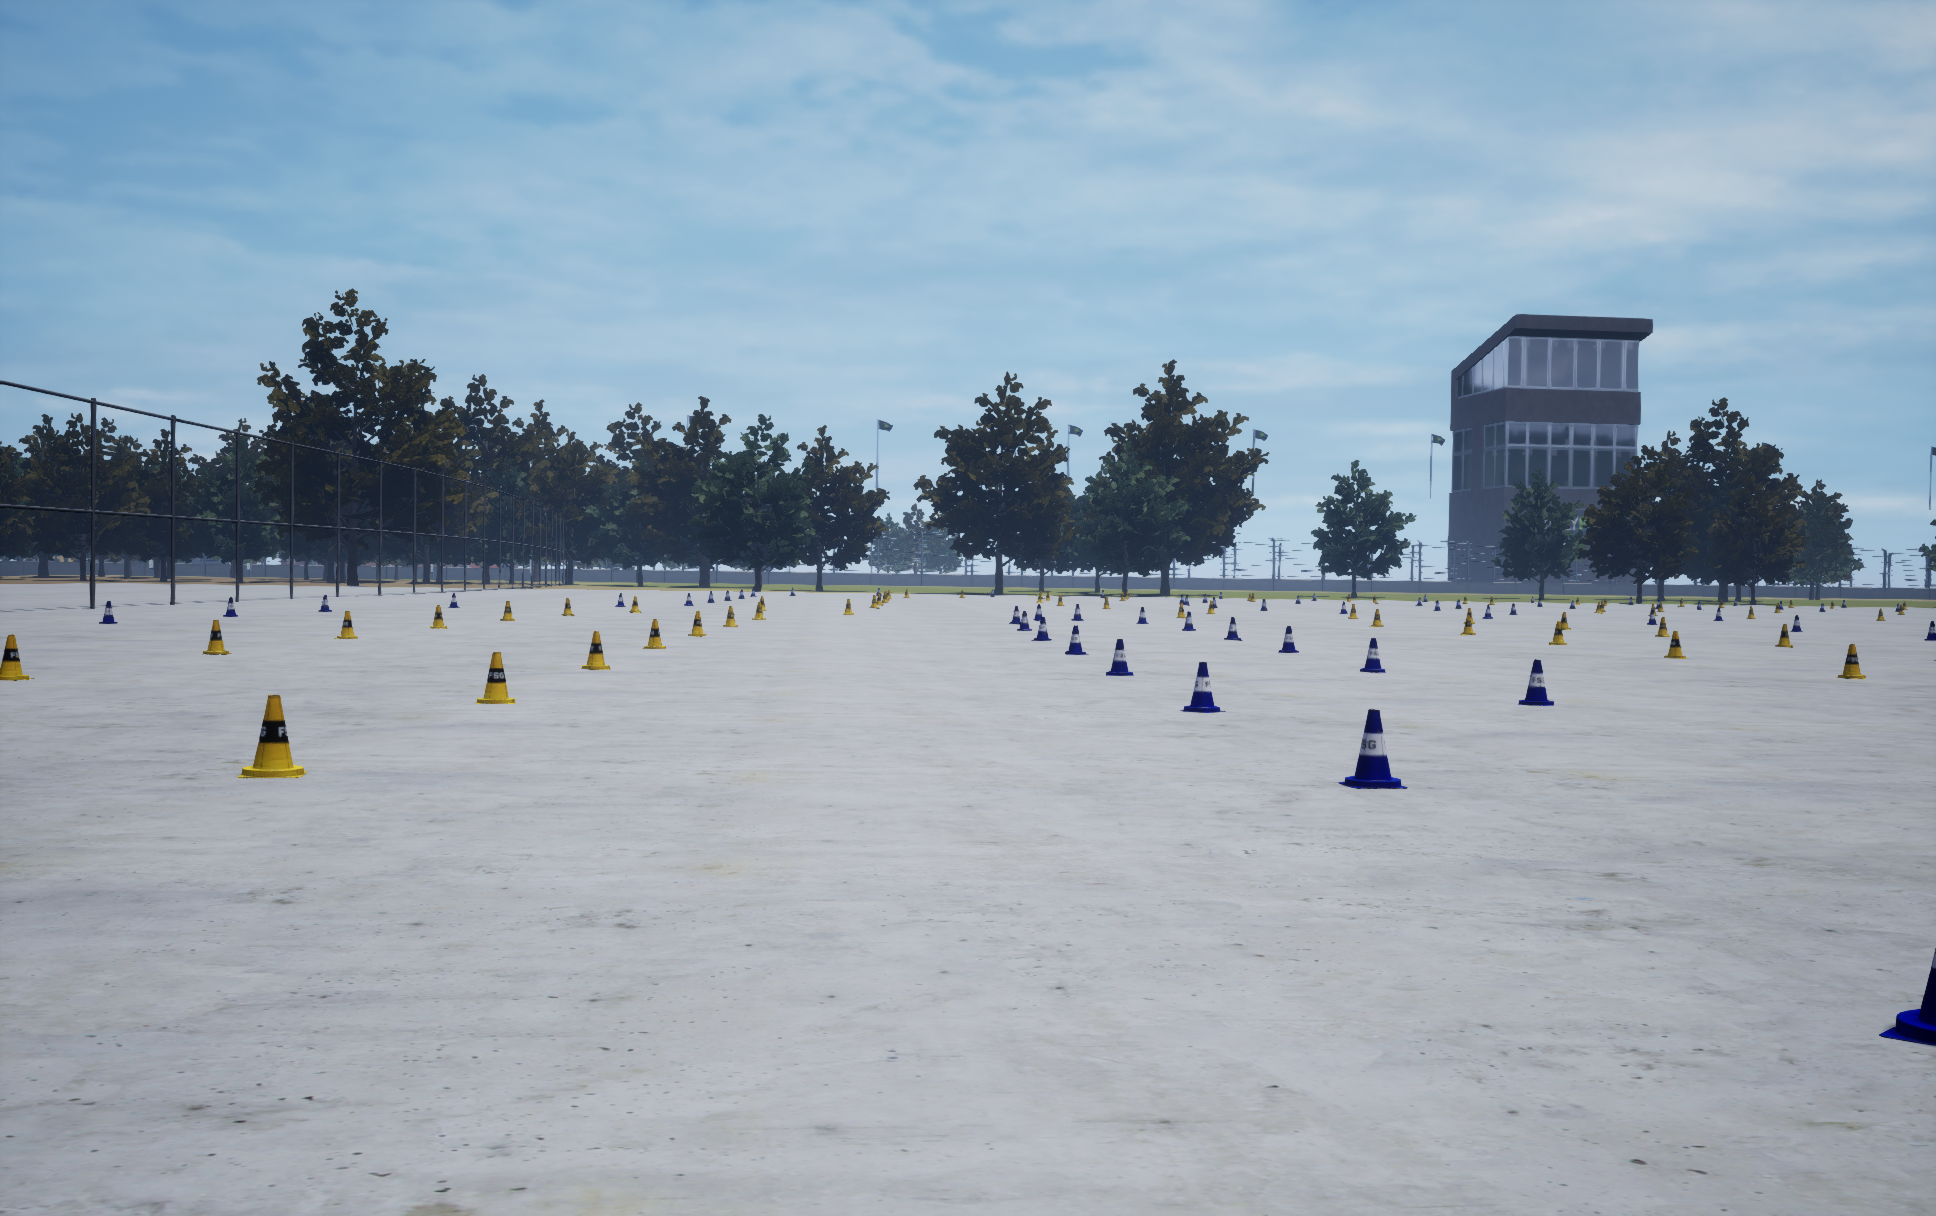blue: (238, 695, 305, 778), (476, 651, 516, 703), (0, 635, 34, 679), (581, 630, 609, 670), (202, 621, 231, 654), (1837, 644, 1865, 678), (642, 619, 665, 649), (1664, 630, 1688, 658), (333, 611, 357, 637), (688, 611, 706, 636), (1549, 621, 1566, 644), (1775, 623, 1792, 647), (430, 605, 447, 628), (1460, 615, 1475, 635), (723, 607, 737, 626), (500, 601, 514, 621), (1654, 616, 1668, 636), (752, 602, 765, 619)
yellow: (1879, 948, 1935, 1045), (1338, 709, 1406, 787), (1180, 663, 1224, 712), (1519, 658, 1554, 705), (1107, 639, 1133, 675), (1360, 637, 1385, 672), (1065, 625, 1088, 654), (1278, 626, 1299, 651), (1031, 616, 1051, 640), (1224, 616, 1243, 640), (99, 601, 118, 623), (223, 597, 237, 616), (1017, 611, 1031, 630), (1182, 611, 1195, 630), (1009, 607, 1020, 623)
